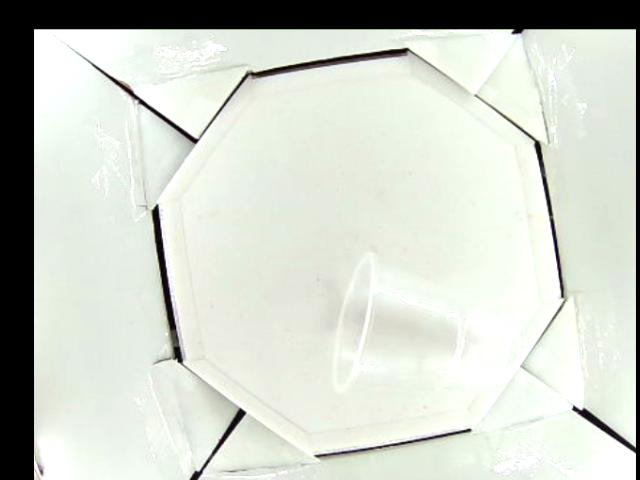Cup: (332, 250, 524, 394)
